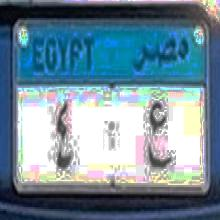4: (52, 100, 76, 174)
ain: (146, 90, 173, 179)
